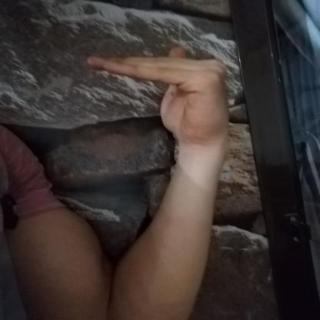KHAA: (70, 35, 251, 154)
